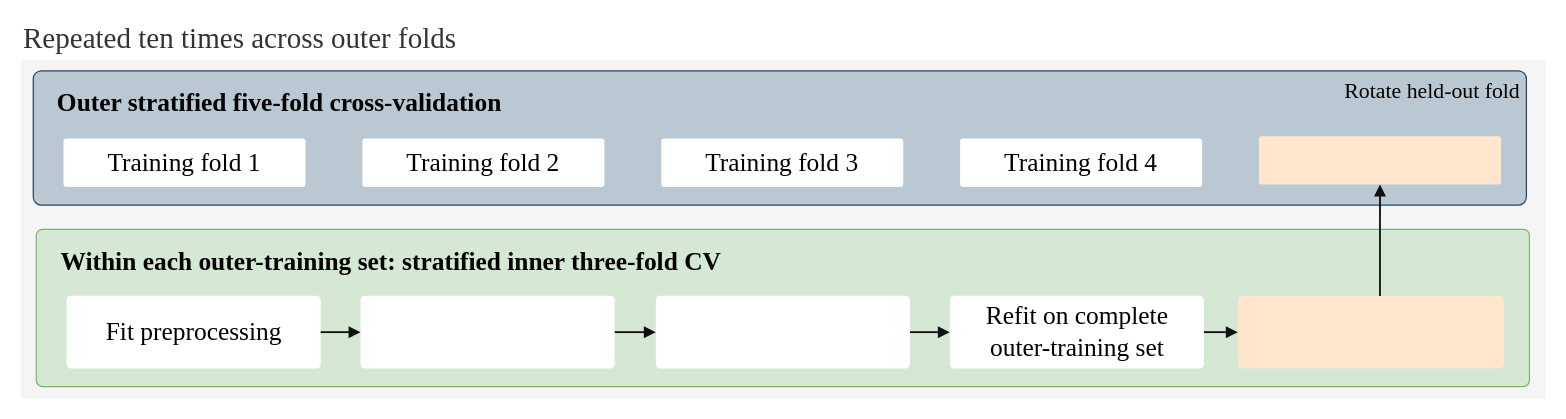
This 1566x419 diagram has some shape labels left out. Each missing label, with the centre of its shape:
Evaluate once on outer test fold (no fitting): [1370,331]
Held-out test: [1379,160]
Select by balanced accuracy: [782,331]
Tune candidate hyperparameters: [487,331]
